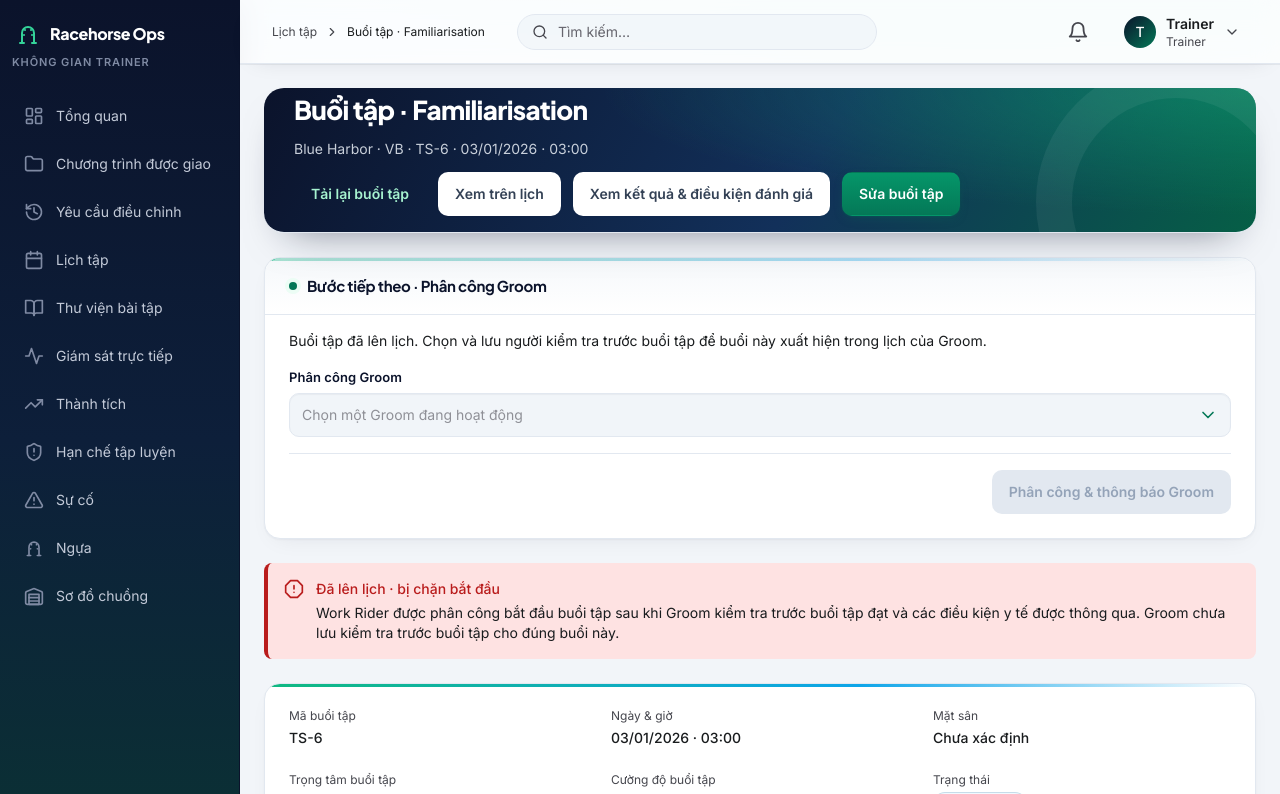
Test: reloads the same session from the API after Groom saves, without issuing a mutation
Click the button "Tải lại buổi tập" at (360, 194), box [294,172,426,216]
(page scrolled)
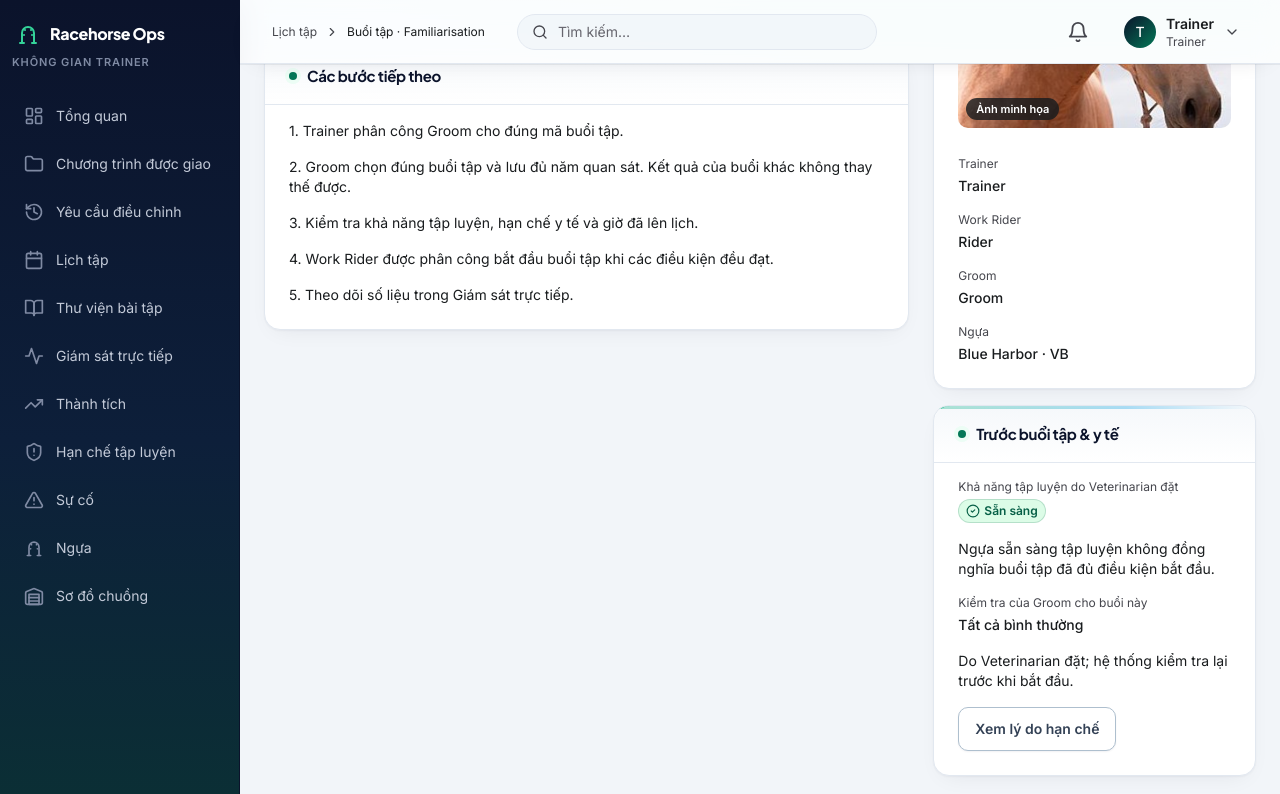
Now the text "Tất cả bình thường" is shown, box [958,616,1083,633]
Now the button "Phân công & thông báo Groom" is gone
